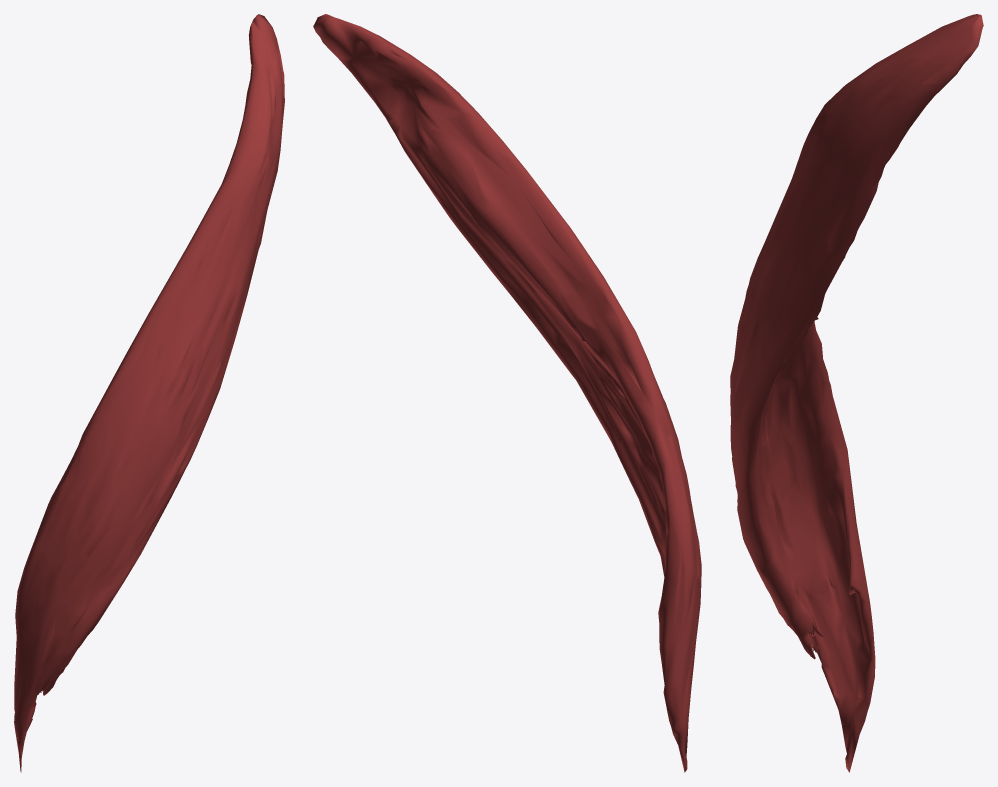
The model's file is superficial-head-of-pronator-teres-r.glb.
3 renders of one model, left to right at view 1: azimuth 30°, elevation 25°; view 2: azimuth 150°, elevation 25°; view 3: azimuth 270°, elevation 25°, orthographic. The views are drawn at different scales.
Visible parts, largest first — view 1: Superficial head of pronator teres.r; view 2: Superficial head of pronator teres.r; view 3: Superficial head of pronator teres.r.
Part boxes in pixels (x1,y1,x2,y2): Superficial head of pronator teres.r: [14, 14, 284, 772]; Superficial head of pronator teres.r: [313, 14, 701, 772]; Superficial head of pronator teres.r: [730, 14, 983, 772].
Bounding box in the file's own units: 0.0722 × 0.1506 × 0.0361.
